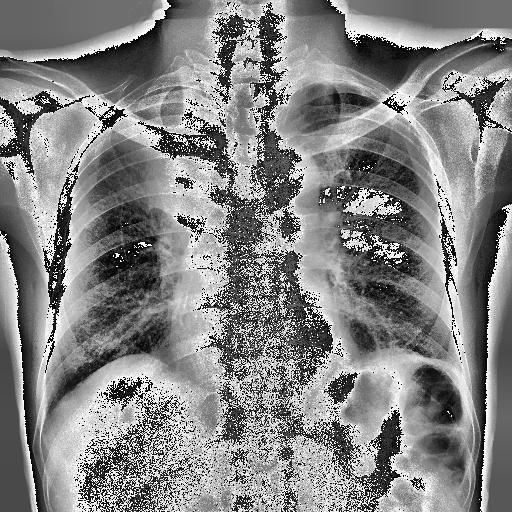1- Atelectasis: (105, 86, 226, 240)
4- Consolidation: (105, 86, 226, 240), (120, 86, 224, 230), (158, 138, 218, 220)
7- Lung Opacity: (120, 86, 224, 230), (101, 80, 227, 172), (158, 138, 218, 220)
8- Nodule-Mass: (120, 86, 224, 230), (158, 138, 218, 220)
